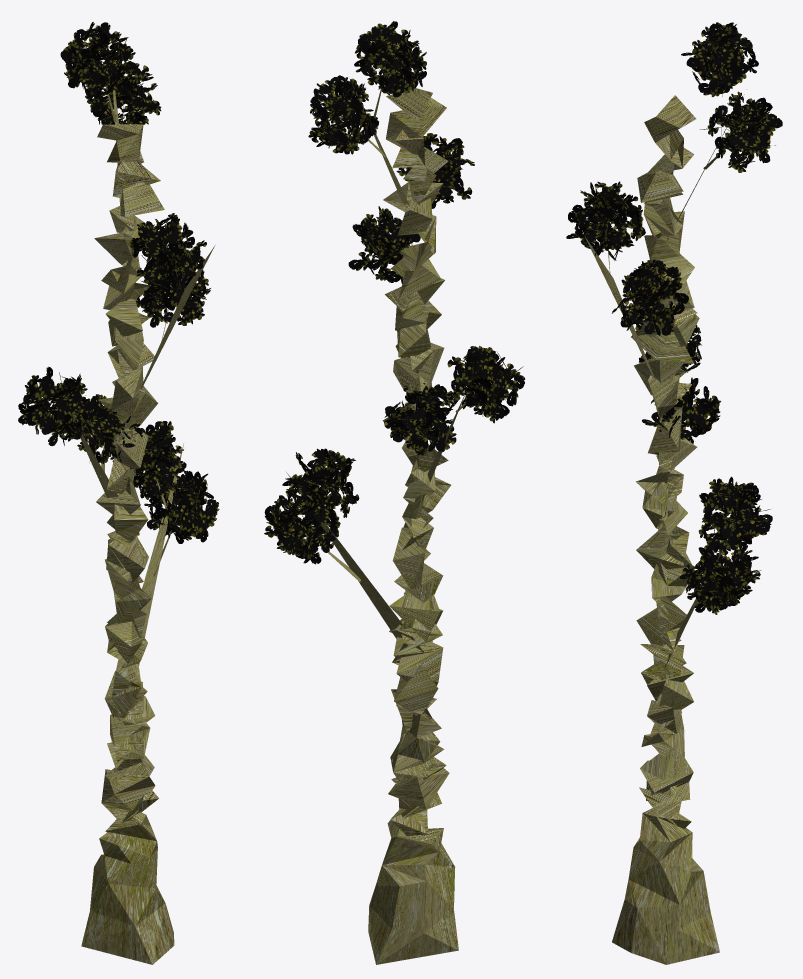
Rendered from deadwood_snag_v01_LOD2.fbx.
The picture shows the model from 3 angles, left to right: view 1: azimuth 30°, elevation 25°; view 2: azimuth 150°, elevation 25°; view 3: azimuth 270°, elevation 25°; orthographic projection. The views are drawn at different scales.
Visible parts, largest first — view 1: deadwood_snag_v01_LOD2; view 2: deadwood_snag_v01_LOD2; view 3: deadwood_snag_v01_LOD2.
Part boxes in pixels (x1,y1,x2,y2): deadwood_snag_v01_LOD2: [18, 22, 219, 964]; deadwood_snag_v01_LOD2: [264, 21, 525, 964]; deadwood_snag_v01_LOD2: [566, 22, 782, 964].
Bounding box in the file's own units: 405 × 349 × 1567.
2 materials, 2 textured.
